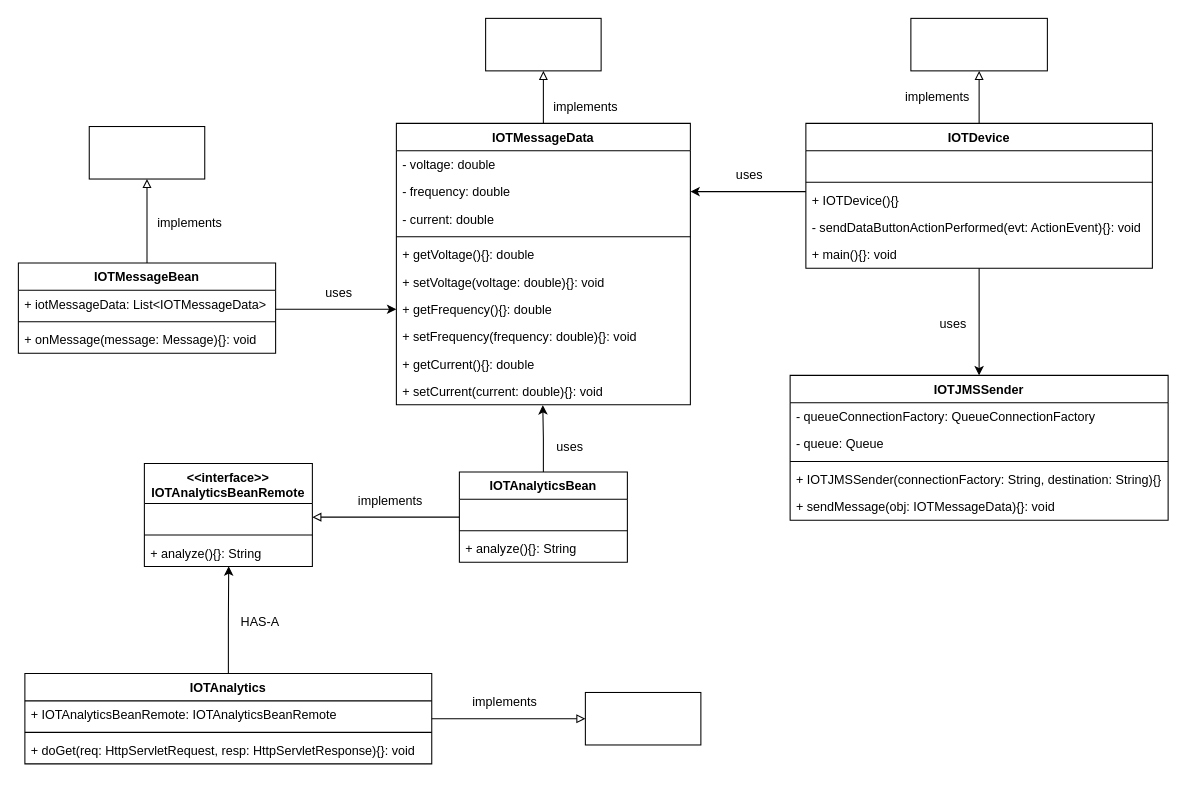
The diagram is 1187 pixels wide and 785 high, and some of its shapes have lost their labels. The centre of each missing label's shape, as x and y in pixels:
"«abstract» HttpServlet" belongs at (642,718).
"«abstract» javax.swing.JFrame" belongs at (978,44).
"«abstract» Serializable" belongs at (543,44).
"«interface» MessageListener" belongs at (146,152).
